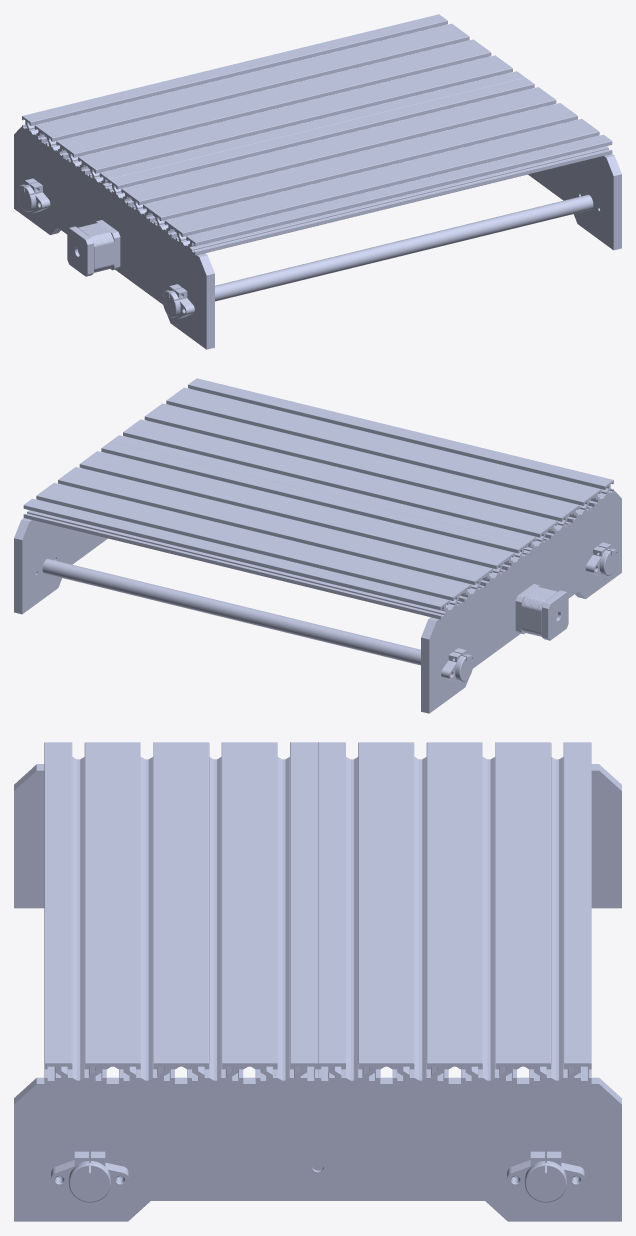
3 renders of one model, top to bottom at view 1: azimuth 30°, elevation 25°; view 2: azimuth 150°, elevation 25°; view 3: azimuth 270°, elevation 25°, orthographic. The views are drawn at different scales.
Visible parts, largest first — view 1: NAUO10, NAUO9, NAUO3, NAUO1, NAUO4, NAUO11, NAUO6, NAUO5; view 2: NAUO9, NAUO10, NAUO3, NAUO2, NAUO4, NAUO11, NAUO5, NAUO6; view 3: NAUO9, NAUO10, NAUO4, NAUO3, NAUO7, NAUO8.
Part boxes in pixels (left/top/right/bottom): NAUO10: left=108, top=77, right=612, bottom=255; NAUO9: left=22, top=14, right=525, bottom=191; NAUO3: left=14, top=126, right=214, bottom=349; NAUO1: left=165, top=194, right=593, bottom=312; NAUO4: left=528, top=154, right=621, bottom=250; NAUO11: left=67, top=220, right=120, bottom=276; NAUO6: left=17, top=178, right=50, bottom=213; NAUO5: left=161, top=284, right=194, bottom=319; NAUO9: left=23, top=441, right=527, bottom=619; NAUO10: left=110, top=378, right=613, bottom=555; NAUO3: left=421, top=490, right=621, bottom=713; NAUO2: left=42, top=558, right=470, bottom=676; NAUO4: left=14, top=518, right=107, bottom=614; NAUO11: left=515, top=584, right=568, bottom=640; NAUO5: left=585, top=542, right=618, bottom=577; NAUO6: left=441, top=648, right=474, bottom=683; NAUO9: left=318, top=742, right=591, bottom=1083; NAUO10: left=44, top=742, right=317, bottom=1083; NAUO4: left=14, top=1077, right=621, bottom=1221; NAUO3: left=14, top=764, right=621, bottom=908; NAUO7: left=51, top=1151, right=128, bottom=1202; NAUO8: left=507, top=1151, right=584, bottom=1202.
Bounding box in the file's own units: 0.5535 × 0.115 × 0.4.
